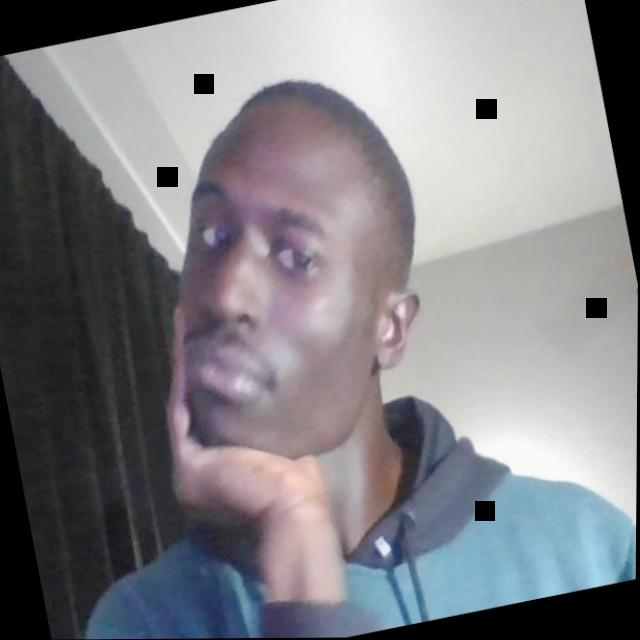NO-Mask: (140, 120, 412, 478)
